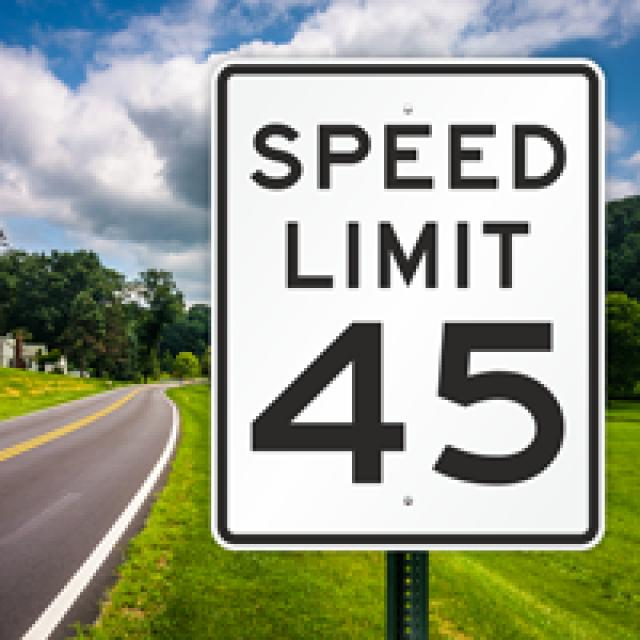speedLimit45: (211, 55, 611, 561)
